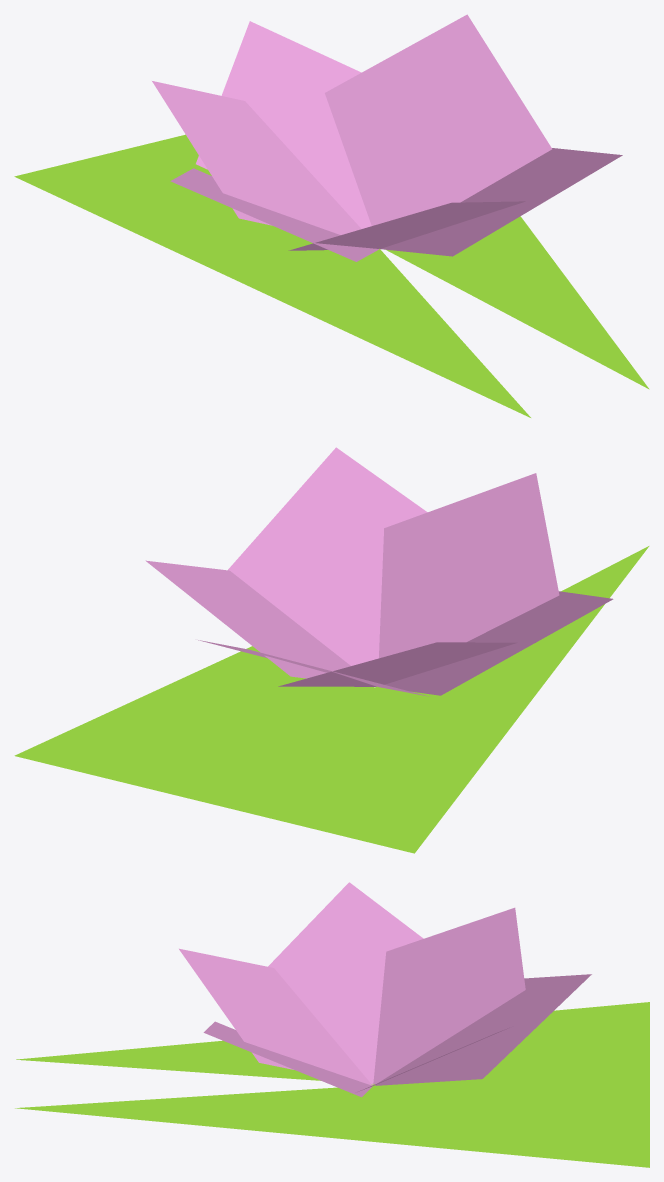
Rendered from Lilypad_3_Culled.fbx.
The picture shows the model from 3 angles, top to bottom: view 1: azimuth 30°, elevation 25°; view 2: azimuth 150°, elevation 25°; view 3: azimuth 270°, elevation 25°; orthographic projection. The views are drawn at different scales.
Visible parts, largest first — view 1: LilyPad_3_Culled; view 2: LilyPad_3_Culled; view 3: LilyPad_3_Culled.
Part boxes in pixels (bbox=[...]): LilyPad_3_Culled: bbox=[14, 14, 649, 417]; LilyPad_3_Culled: bbox=[14, 447, 649, 853]; LilyPad_3_Culled: bbox=[15, 882, 649, 1167].
Size of the model in its own units: 129 by 40.99 by 198.
